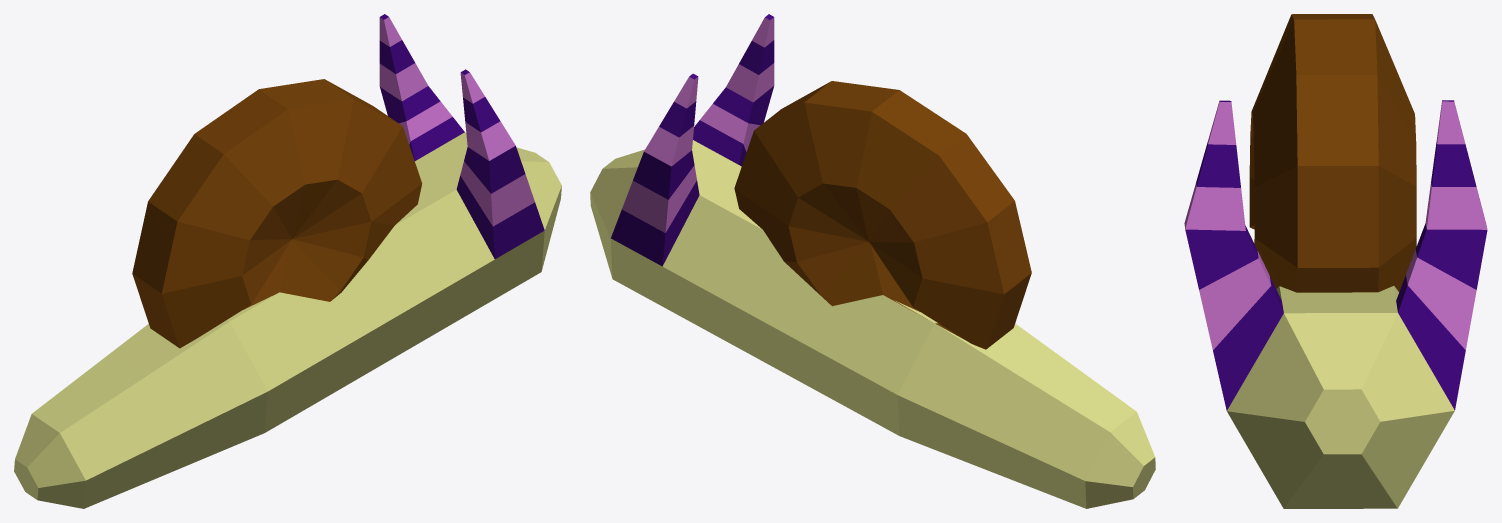
The model's file is snail2.fbx.
3 views of the same model, side by side, from view 1: azimuth 30°, elevation 25°; view 2: azimuth 150°, elevation 25°; view 3: azimuth 270°, elevation 25° (orthographic). The views are drawn at different scales.
Parts seen in each view (by area): view 1: Shell.001; view 2: Shell.001; view 3: Shell.001.
Boxes of the visible parts, x1=… form: Shell.001: x1=14, y1=14, x2=561, y2=508; Shell.001: x1=590, y1=14, x2=1155, y2=508; Shell.001: x1=1184, y1=14, x2=1487, y2=508.
Bounding box in the file's own units: 35.92 × 23.17 × 12.21.
